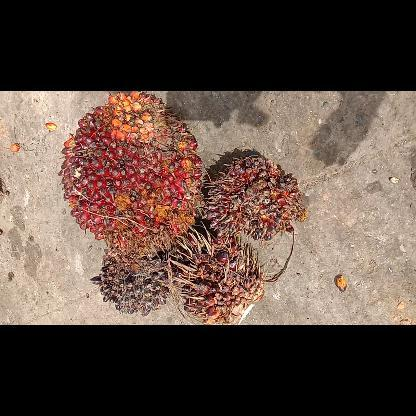TBS abnormal: (202, 152, 303, 242), (176, 230, 266, 324), (92, 248, 170, 318)
TBS masak: (57, 92, 202, 256)
